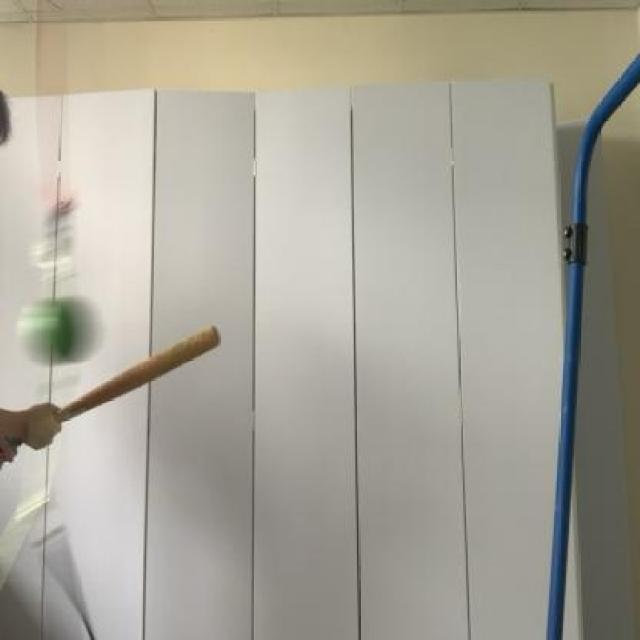baseball: (0, 295, 111, 356)
